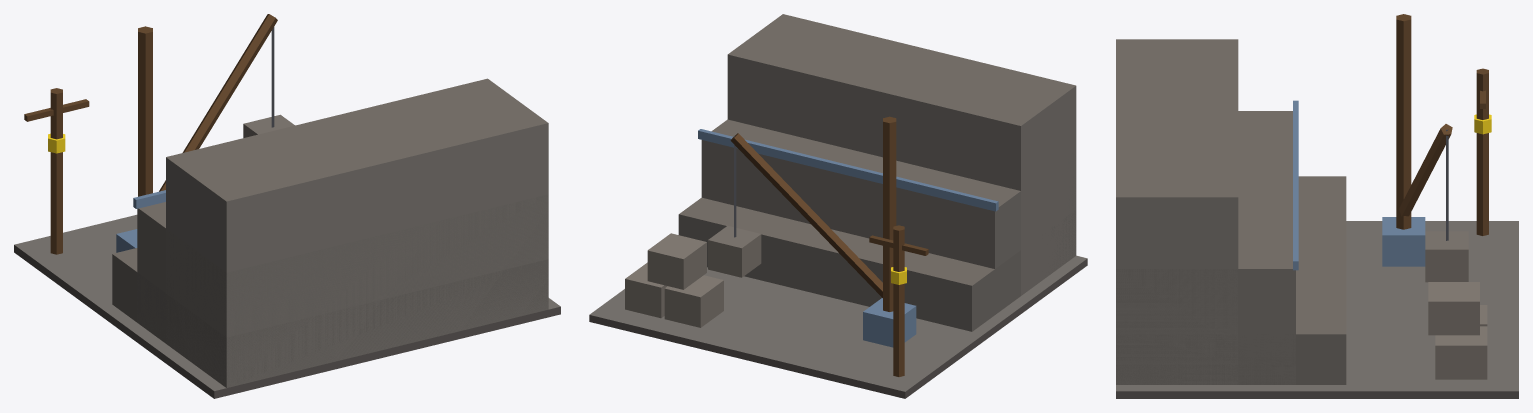
The model's file is quarry.glb.
3 views of the same model, side by side, from view 1: azimuth 30°, elevation 25°; view 2: azimuth 150°, elevation 25°; view 3: azimuth 270°, elevation 25° (orthographic). The views are drawn at different scales.
Parts seen in each view (by area): view 1: quarry; view 2: quarry; view 3: quarry.
Part boxes in pixels (x1,y1,x2,y2): quarry: (14,14,560,398); quarry: (589,14,1087,398); quarry: (1116,14,1518,398).
Bounding box in the file's own units: 2.85 × 1.9 × 2.8.
